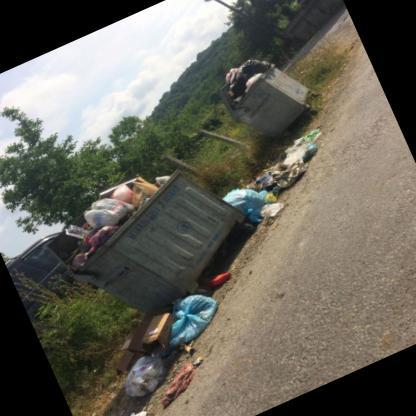Garbage: (78, 293, 240, 415), (92, 289, 240, 410), (42, 167, 165, 266), (219, 128, 332, 218), (238, 125, 336, 200), (207, 47, 278, 107), (201, 270, 230, 293)
